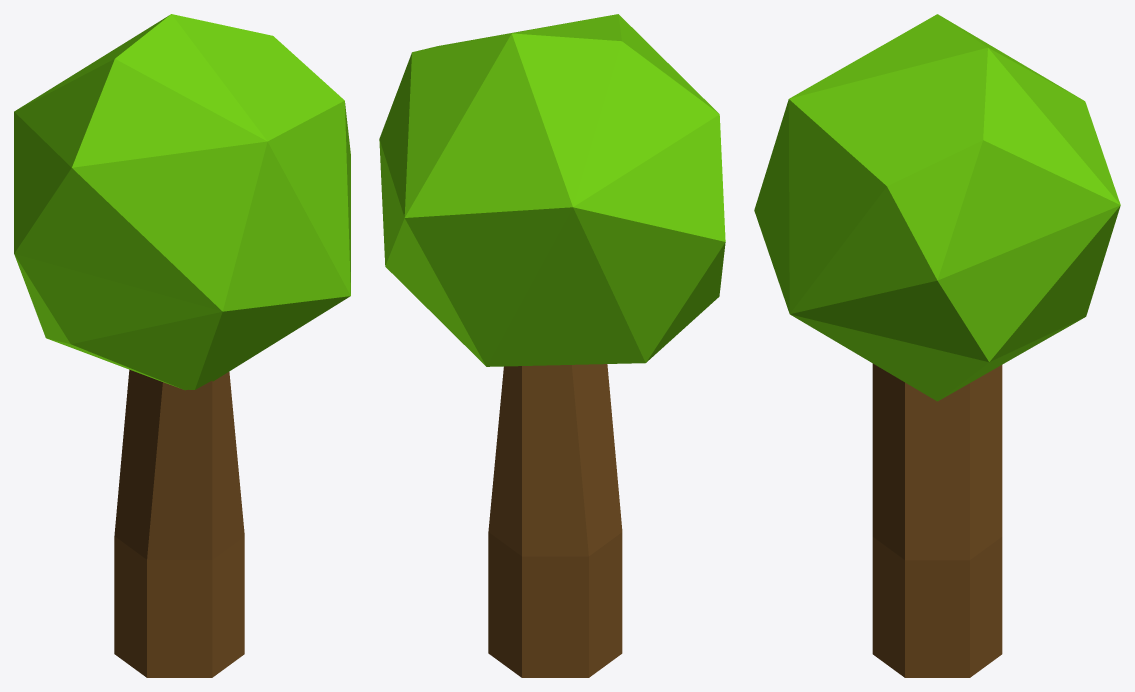
File: low_poly_tree_001.fbx
3 renders of one model, left to right at view 1: azimuth 30°, elevation 25°; view 2: azimuth 150°, elevation 25°; view 3: azimuth 270°, elevation 25°, orthographic. The views are drawn at different scales.
Visible parts, largest first — view 1: Tree.003; view 2: Tree.003; view 3: Tree.003.
Boxes of the visible parts, <box> form: Tree.003: <box>14,14,350,677</box>; Tree.003: <box>379,14,725,677</box>; Tree.003: <box>754,14,1120,677</box>.
Bounding box in the file's own units: 209 × 366 × 198.
